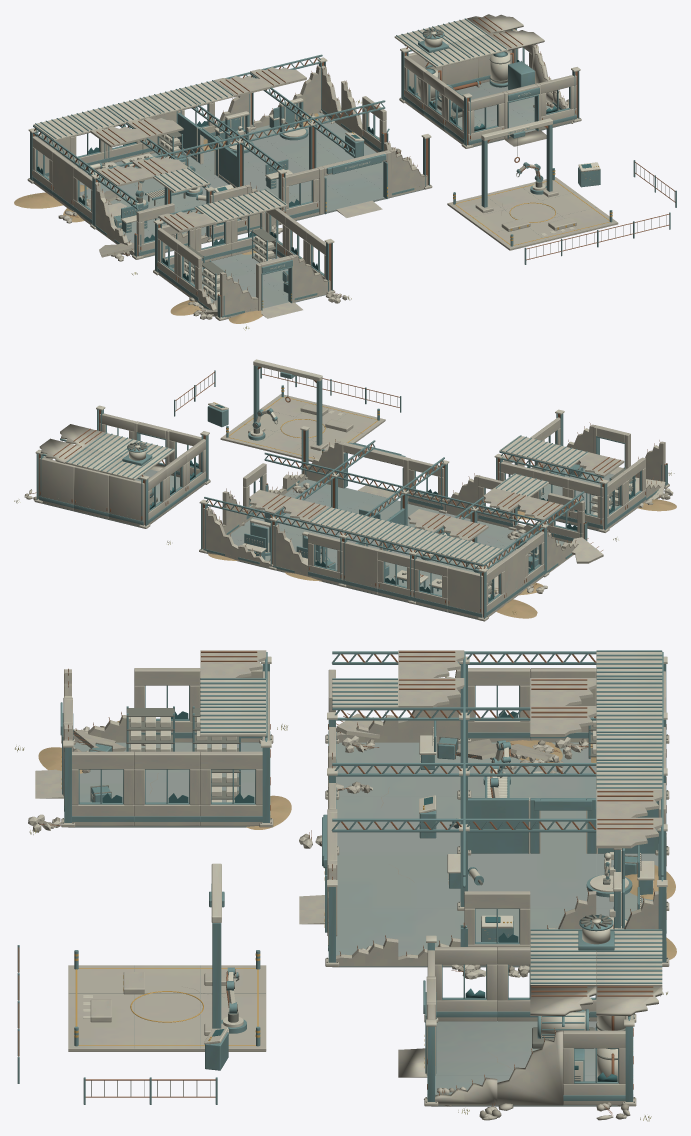
File: robot_lab_edit.glb
3 renders of one model, top to bottom at view 1: azimuth 30°, elevation 25°; view 2: azimuth 150°, elevation 25°; view 3: azimuth 270°, elevation 25°, orthographic. The views are drawn at different scales.
Visible parts, largest first — view 1: Site3, Site2, Site4, Site1; view 2: Site3, Site2, Site4, Site1; view 3: Site3, Site2, Site4, Site1.
Part boxes in pixels (box(x1,y1,x2,y2)): Site3: box(14, 54, 432, 261); Site2: box(394, 14, 581, 148); Site4: box(131, 189, 351, 330); Site1: box(447, 118, 676, 264); Site3: box(167, 426, 603, 621); Site2: box(14, 405, 210, 528); Site4: box(494, 409, 676, 541); Site1: box(174, 359, 401, 461); Site3: box(299, 650, 676, 996); Site2: box(398, 914, 662, 1121); Site4: box(15, 650, 291, 834); Site1: box(17, 863, 266, 1104).
Size of what is drawn, in the model's own units: 58.34 by 8.29 by 40.17.
Materials: 14 (7 with a texture image).
